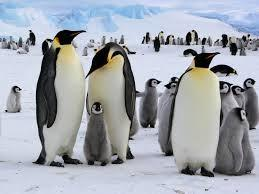emporer: (159, 48, 231, 184), (78, 40, 141, 166), (35, 24, 86, 170)
